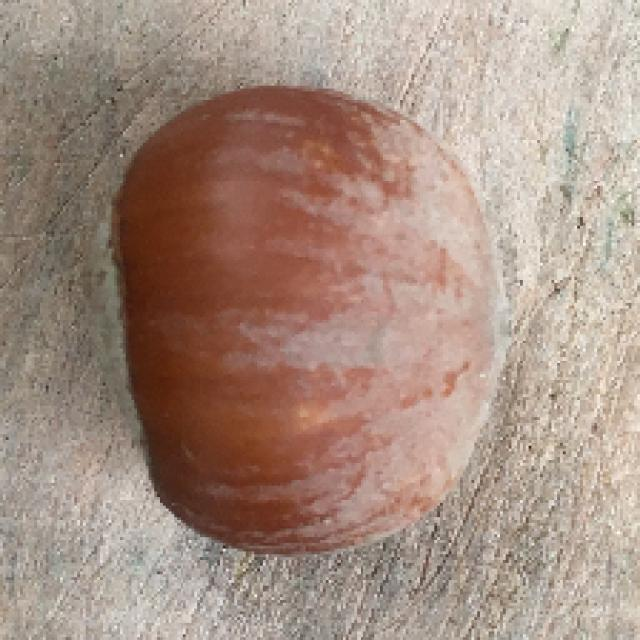hazelnut: (112, 83, 513, 550)
